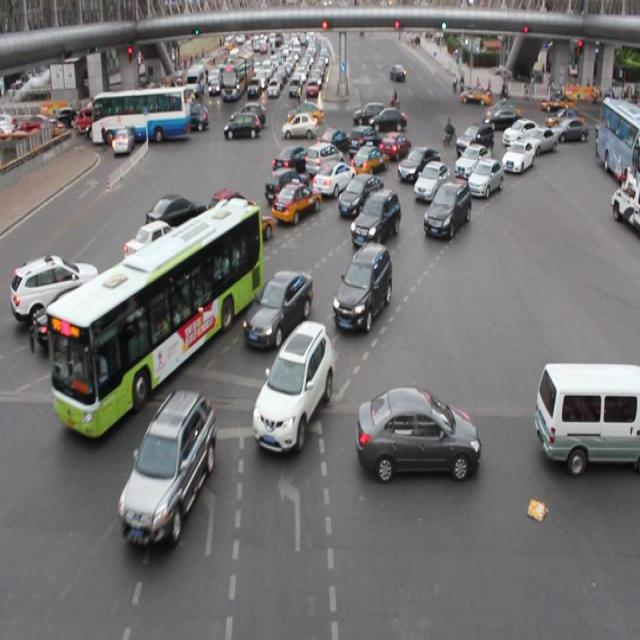car: (119, 391, 215, 542), (356, 385, 480, 480), (251, 323, 333, 451), (35, 280, 131, 348), (242, 268, 312, 352), (12, 254, 98, 322), (334, 242, 392, 330), (125, 252, 203, 316), (206, 207, 274, 255), (122, 220, 194, 264), (422, 178, 470, 239), (144, 192, 207, 238), (204, 190, 260, 239), (352, 191, 399, 246), (270, 179, 321, 224), (338, 172, 383, 218), (266, 167, 310, 208), (310, 158, 355, 198), (397, 145, 440, 184), (413, 160, 448, 204), (466, 158, 502, 198), (452, 144, 490, 180), (348, 142, 386, 178), (272, 144, 312, 178), (454, 123, 493, 157), (347, 124, 382, 158), (501, 140, 534, 173), (378, 132, 411, 164), (501, 118, 538, 146), (316, 128, 350, 154), (519, 126, 555, 150)
truck: (534, 362, 640, 469), (304, 143, 344, 176)
van: (52, 197, 260, 437)
